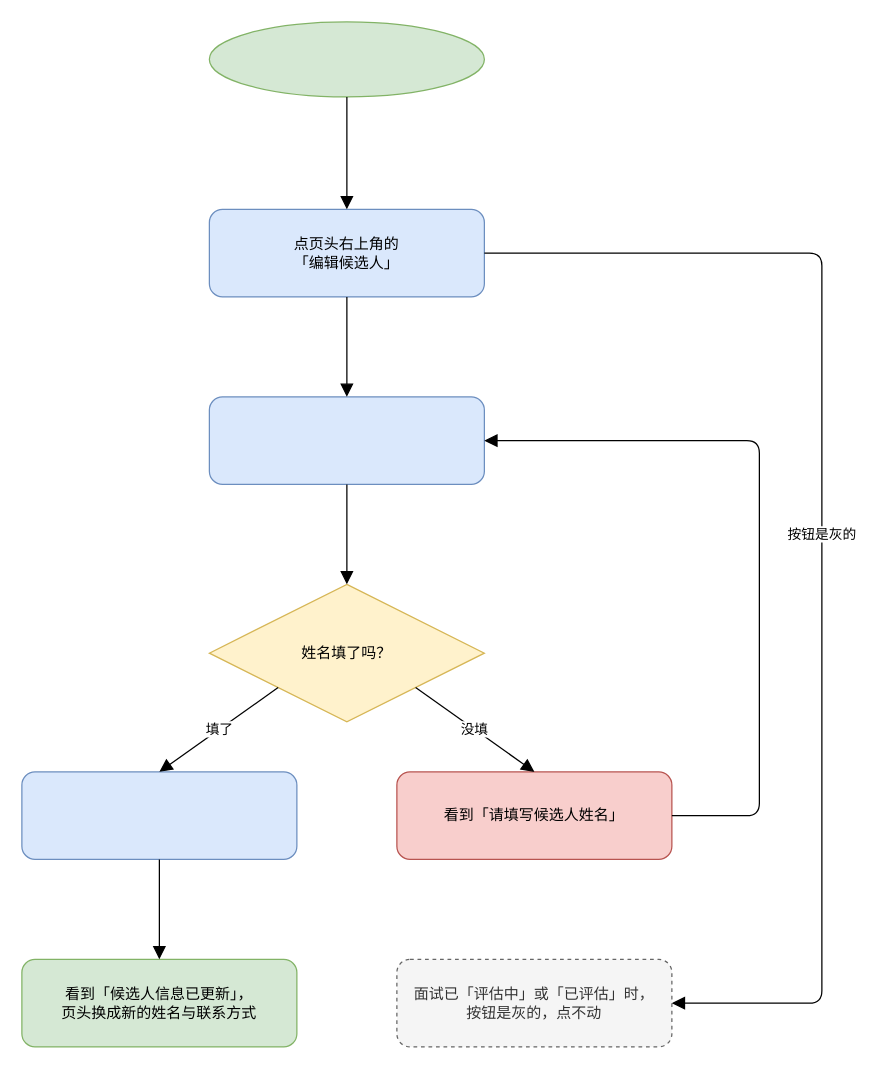
This 878x1069 diagram has some shape labels left out. Here are the shapes that lost their labels. From the top down, the centre of each, then its label:
At pixel 346 59: "打开这场面试的详情页".
At pixel 346 440: "弹出「编辑候选人信息」， 改「候选人姓名」与「联系方式」".
At pixel 159 815: "点「保存」".
